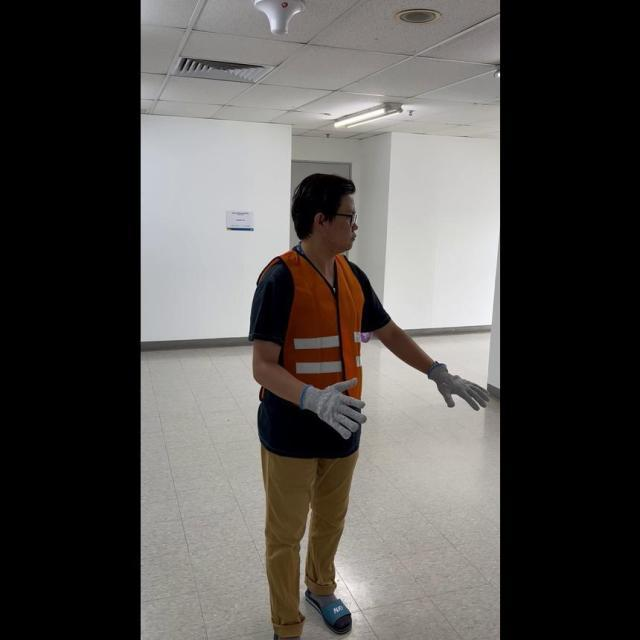gloved_hand: (298, 372, 365, 439), (423, 357, 487, 411)
